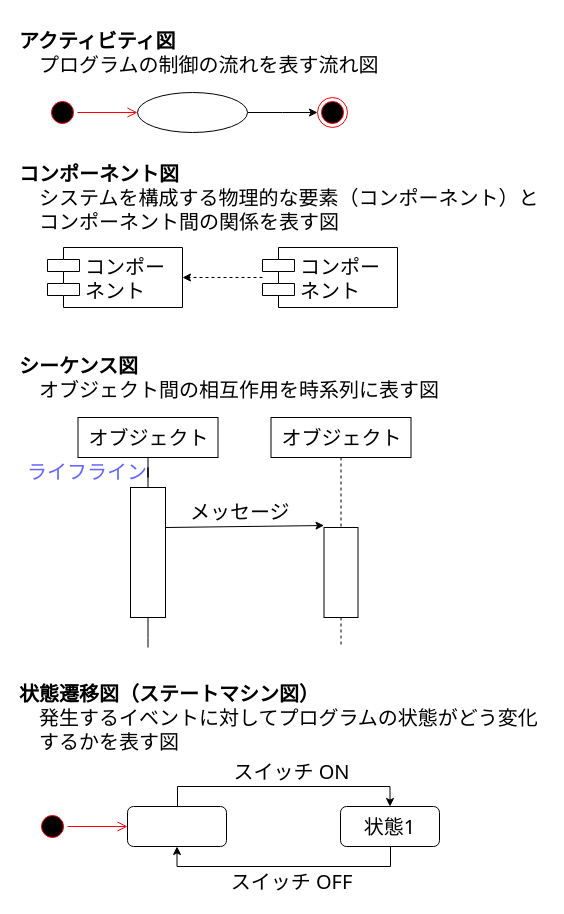
This 564x914 diagram has some shape labels left out. Here are the shapes that lost their labels. From the top down, the centre of each, then its label:
At [192,112]: "処理".
At [148,552]: "アクティベーション".
At [176,826]: "状態0".
